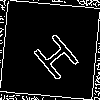H: (24, 24, 82, 83)
